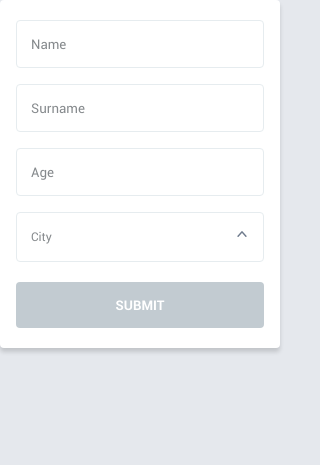
Scenario: AddDataForm tests › save data
Type "TestName" into the field with placeholder "Name". click: (140, 44)
box: [16,20,264,68]
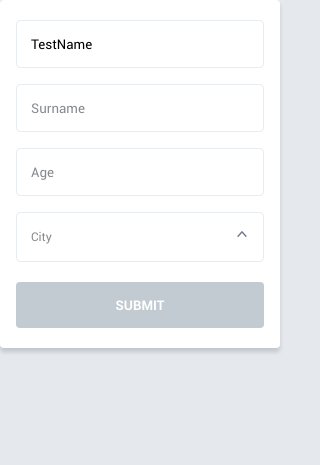
Type "TestSurname" into the field with placeholder "Surname". click: (140, 108)
box: [16,84,264,132]
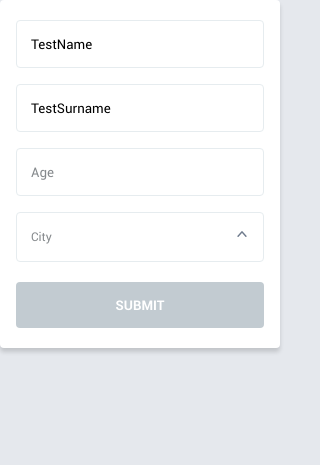
Type "19" into the number field with placeholder "Age". click: (140, 172)
box: [16,148,264,196]
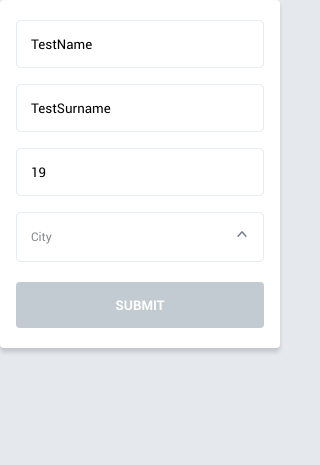
Click the text "City". click: (41, 237)
box: [31,227,52,247]
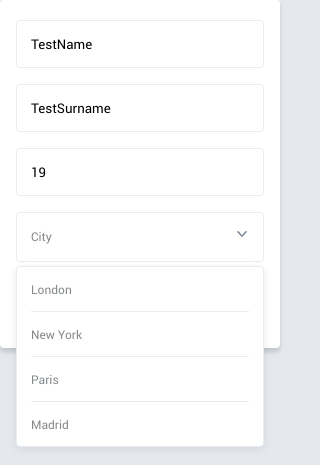
Click the list item "London". click: (140, 289)
box: [31,267,249,312]
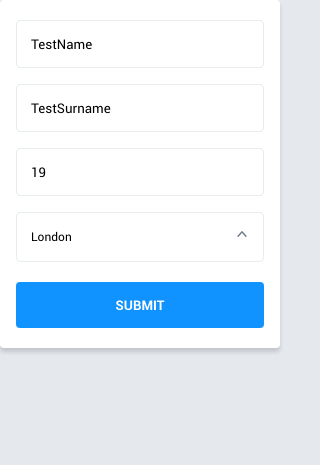
Check: the button is enabled
Click the button. click: (140, 305)
box: [16,282,264,328]
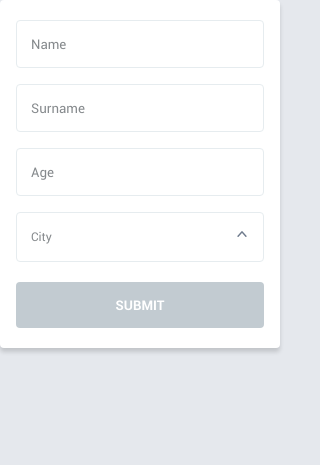
Check: the button is disabled, box [16,282,264,328]
